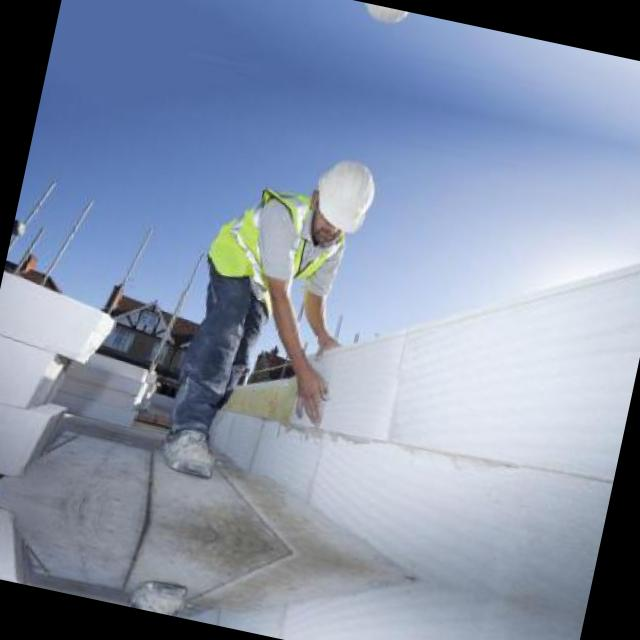helmet: (288, 140, 387, 268), (335, 0, 418, 41)
